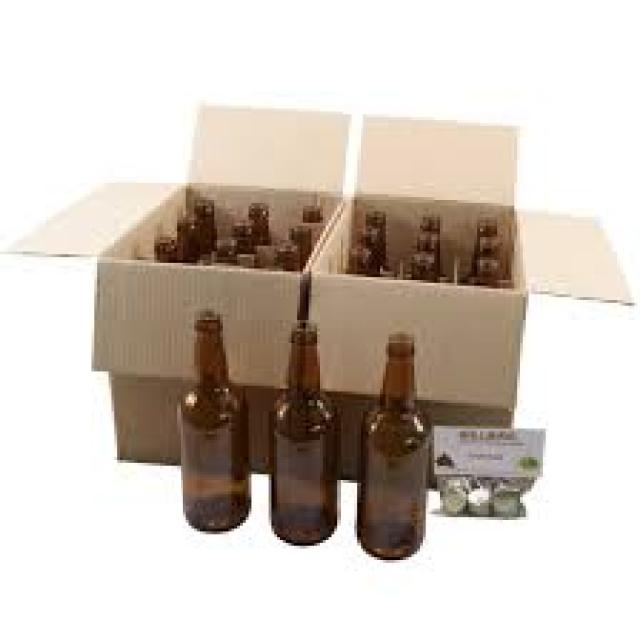cardboard: (309, 268, 517, 403), (92, 254, 292, 377), (186, 100, 346, 191), (349, 114, 512, 200), (3, 177, 177, 254), (512, 203, 629, 300), (109, 374, 177, 466), (97, 197, 174, 263), (303, 197, 348, 272), (246, 383, 269, 468), (423, 403, 506, 426), (334, 392, 357, 472)
glass: (174, 306, 249, 534), (354, 331, 426, 560), (266, 320, 337, 546), (463, 257, 500, 289), (189, 200, 212, 251), (246, 200, 269, 240), (406, 249, 434, 280), (346, 237, 371, 269), (177, 215, 197, 255), (271, 243, 300, 266), (472, 232, 497, 257), (414, 226, 437, 249), (229, 220, 252, 243), (474, 212, 500, 232), (286, 217, 306, 243), (366, 203, 386, 228), (212, 234, 232, 257), (152, 235, 175, 255), (363, 220, 380, 246), (297, 203, 317, 220), (420, 211, 431, 226)
